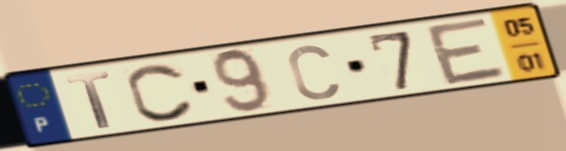7: (365, 28, 416, 93)
9: (212, 47, 276, 117)
C: (124, 61, 199, 123), (285, 43, 343, 103)
E: (421, 14, 512, 88)
T: (62, 69, 115, 130)
